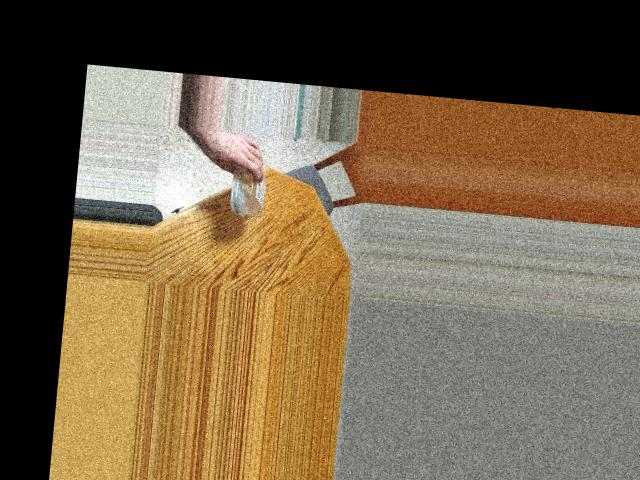cheese: (218, 146, 279, 215)
